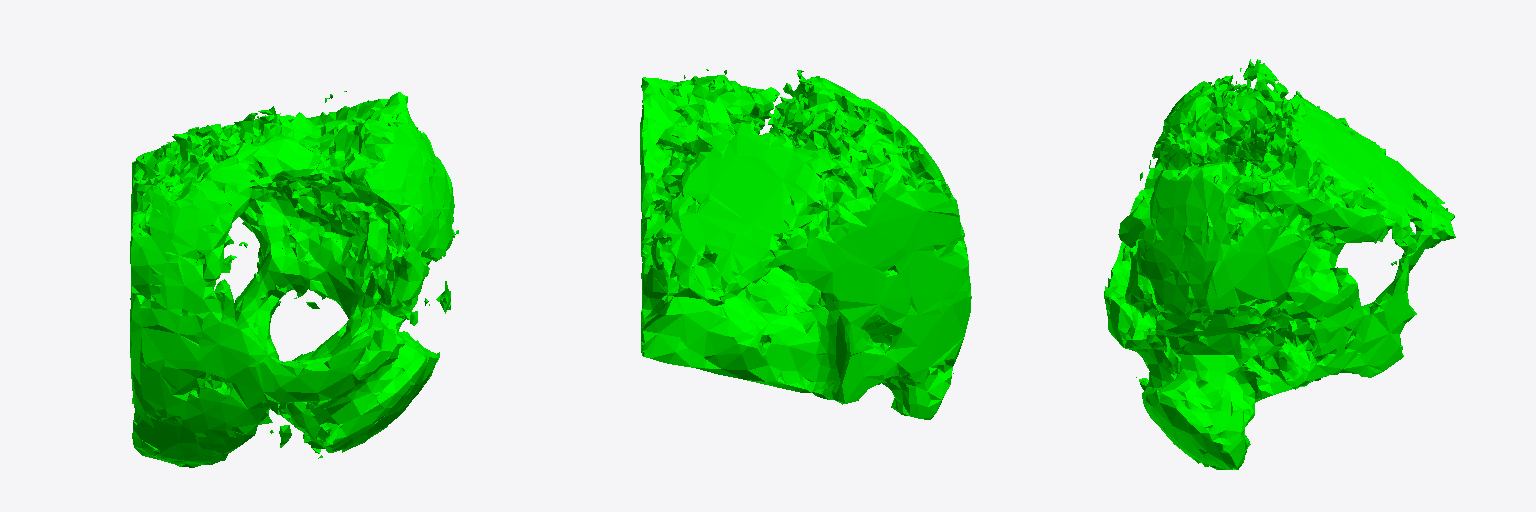
Rendered from B939XXXX-1_base_6.obj.
The picture shows the model from 3 angles: view 1: azimuth 30°, elevation 25°; view 2: azimuth 150°, elevation 25°; view 3: azimuth 270°, elevation 25°; orthographic projection.
Parts seen in each view (by area): view 1: 6_base; view 2: 6_base; view 3: 6_base.
Part boxes in pixels (bbox=[...]): 6_base: bbox=[130, 91, 458, 467]; 6_base: bbox=[640, 69, 971, 419]; 6_base: bbox=[1104, 59, 1455, 469].
Bounding box in the file's own units: 219 × 216 × 203.